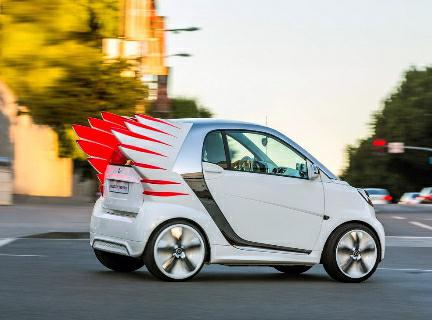smart-forjeremy: (78, 117, 377, 283)
